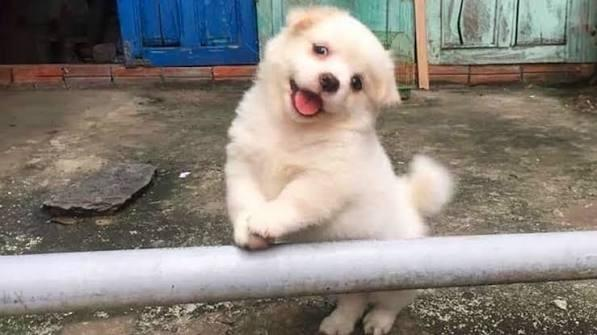puppy-dog: (221, 4, 460, 335)
